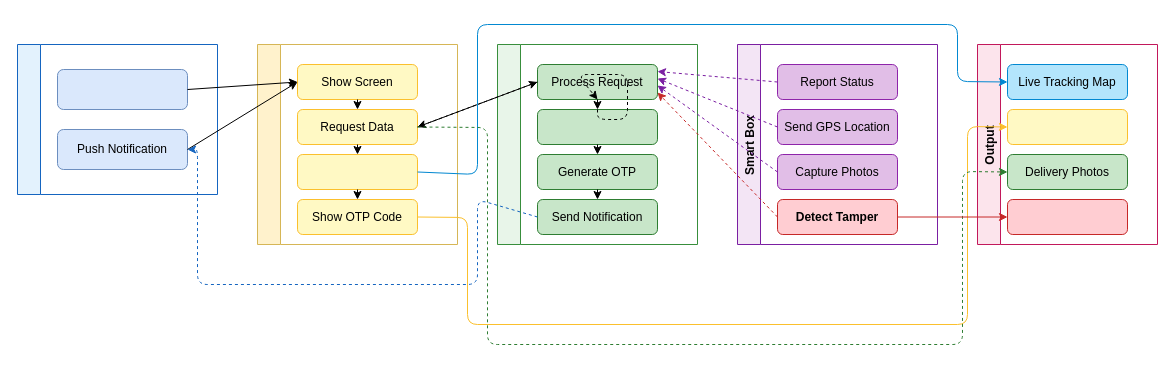
This 1175x370 diagram has some shape labels left out. Each missing label, with the box of its shape:
Alert Message: (1006, 198, 1128, 234)
Customer Taps Button: (56, 68, 188, 110)
Display Map: (296, 154, 418, 190)
Input: (16, 44, 218, 194)
Mobile App: (256, 44, 458, 244)
OTP Display: (1006, 108, 1128, 144)
Query Database: (536, 108, 658, 144)
Server: (496, 44, 698, 244)
